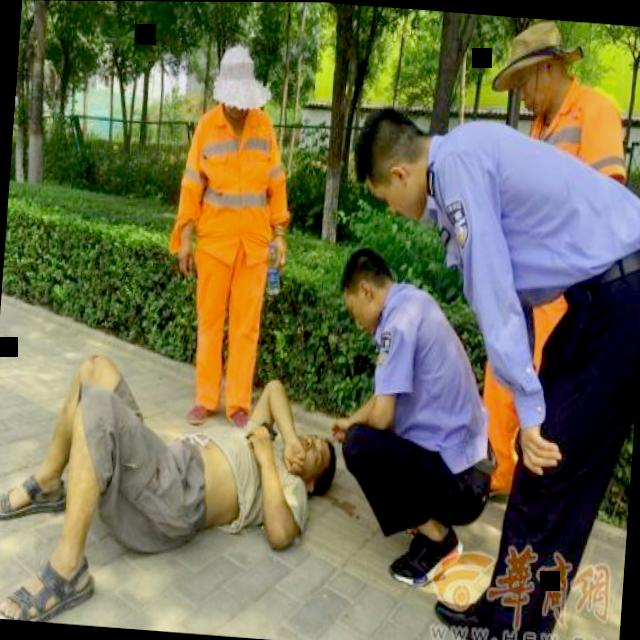Fall-Detected: (0, 331, 358, 638)
